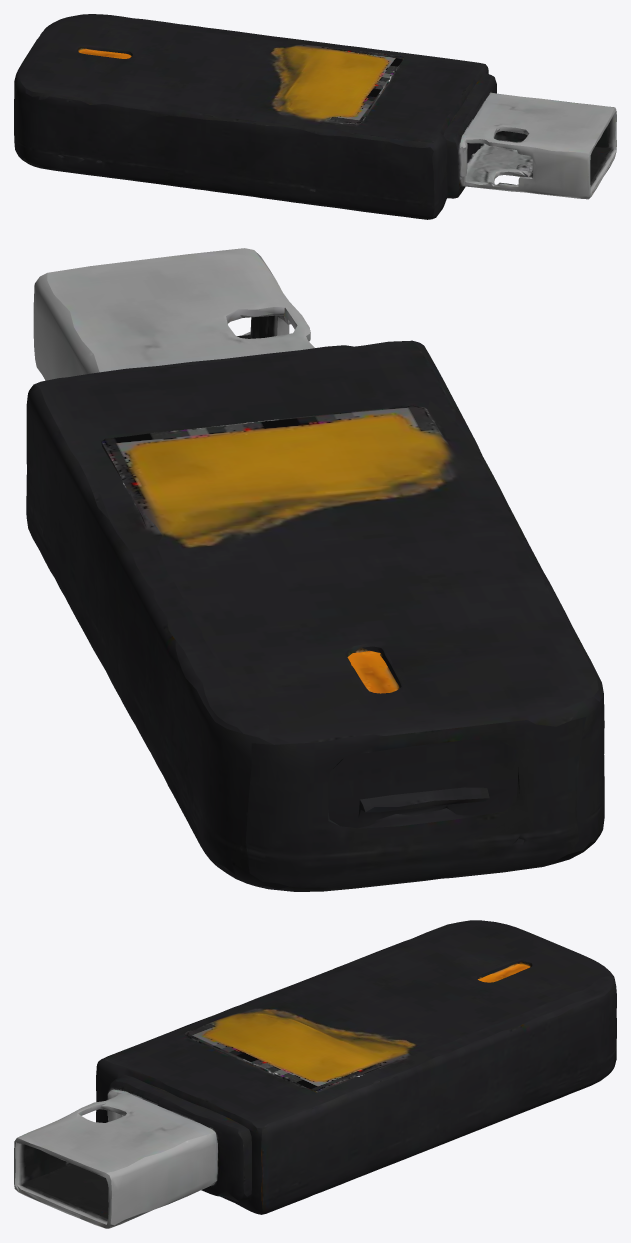
Rendered from usb-drive.glb.
3 views of the same model, one above another, from view 1: azimuth 30°, elevation 25°; view 2: azimuth 150°, elevation 25°; view 3: azimuth 270°, elevation 25° (orthographic). The views are drawn at different scales.
Parts seen in each view (by area): view 1: geometry_0; view 2: geometry_0; view 3: geometry_0.
Part boxes in pixels (x1=…): geometry_0: x1=14, y1=14, x2=616, y2=219; geometry_0: x1=26, y1=248, x2=604, y2=891; geometry_0: x1=14, y1=920, x2=616, y2=1228.
Bounding box in the file's own units: 0.06 × 0.0108 × 0.0621.
Materials: 1 (1 with a texture image).
